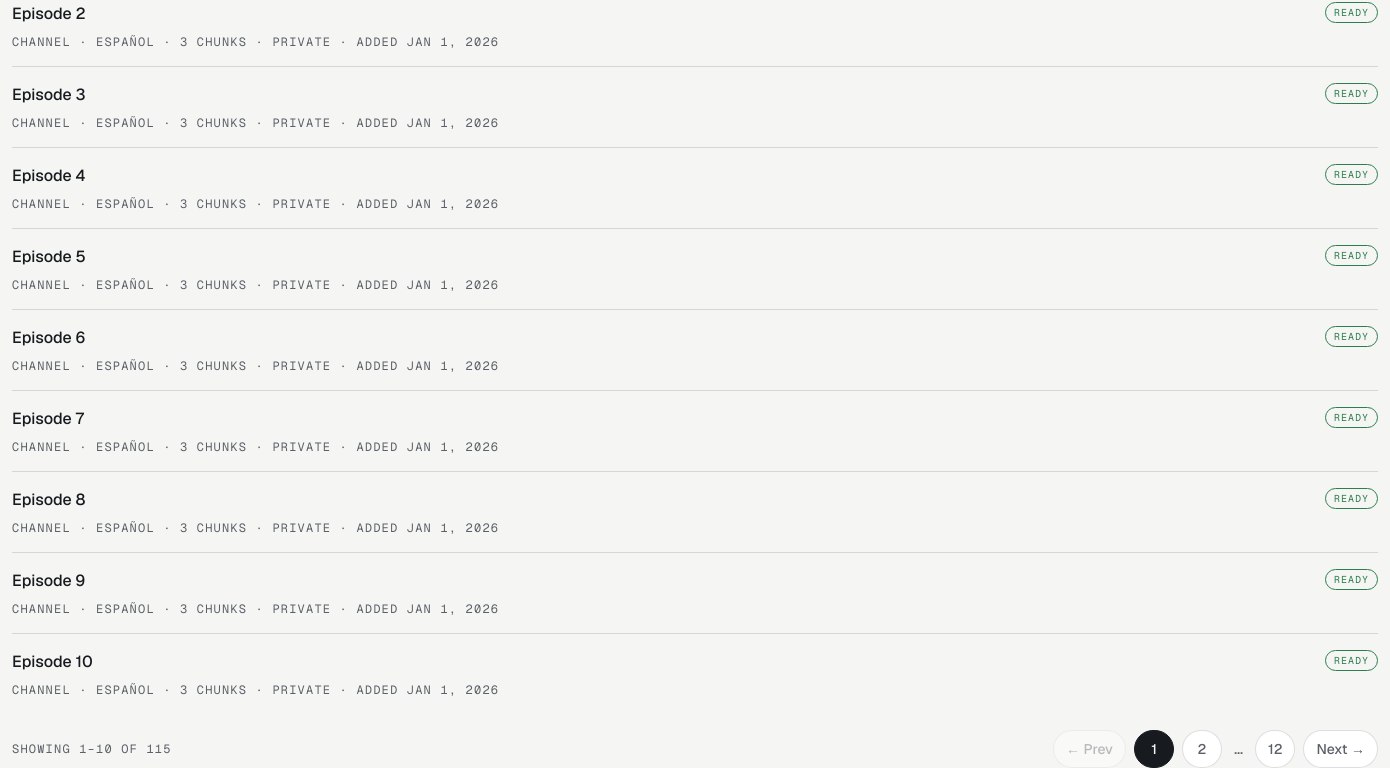
Test: VideoList › moves to another page from the pager
This screenshot has width=1390, height=768.
(page scrolled)
Check: the text "Showing 1–10 of 115" is shown, box [12,741,172,757]
Click the button named "Page 2" at (1202, 749), box [1182,730,1222,767]
(page scrolled)
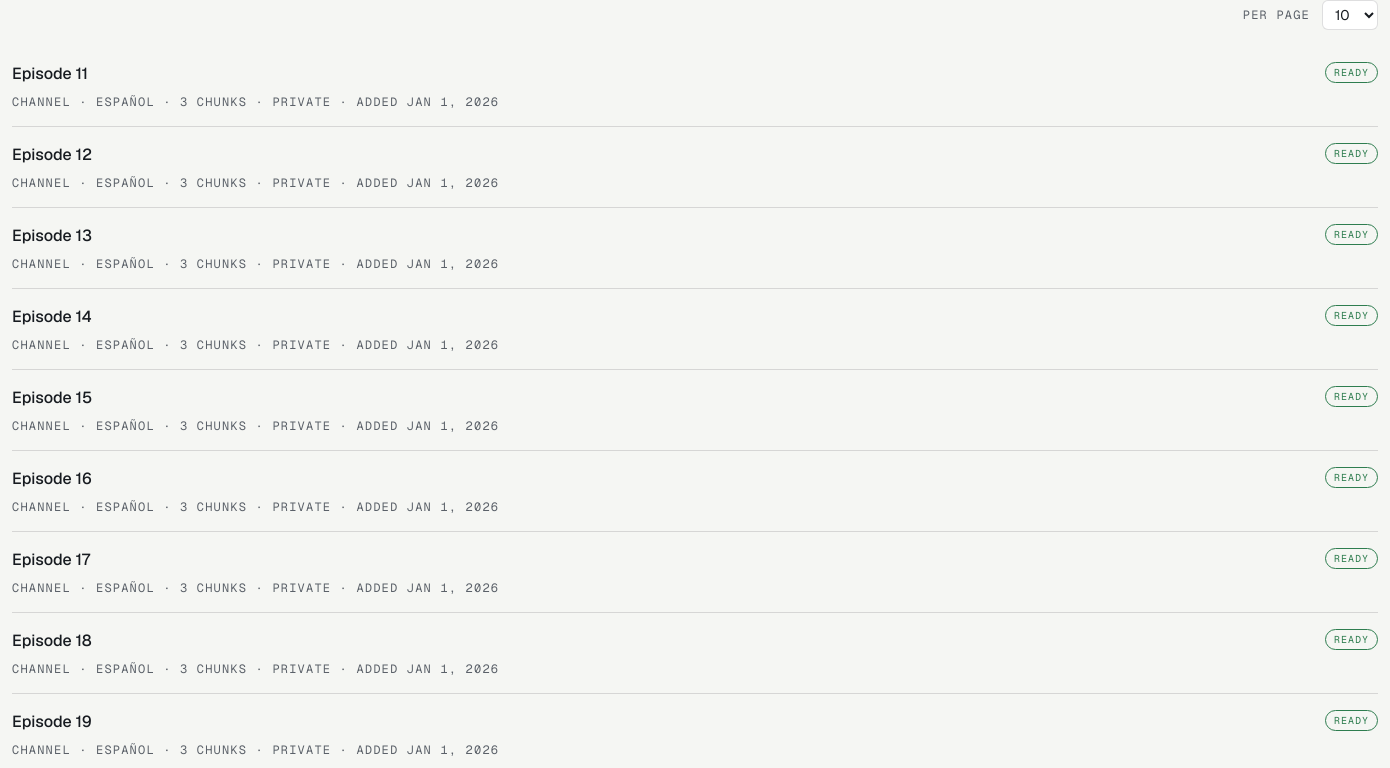
Check: the link "Episode 11" is shown, box [12,62,88,86]
